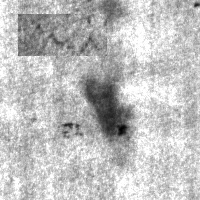crazing: (18, 14, 107, 56)
patches: (83, 79, 129, 139)
